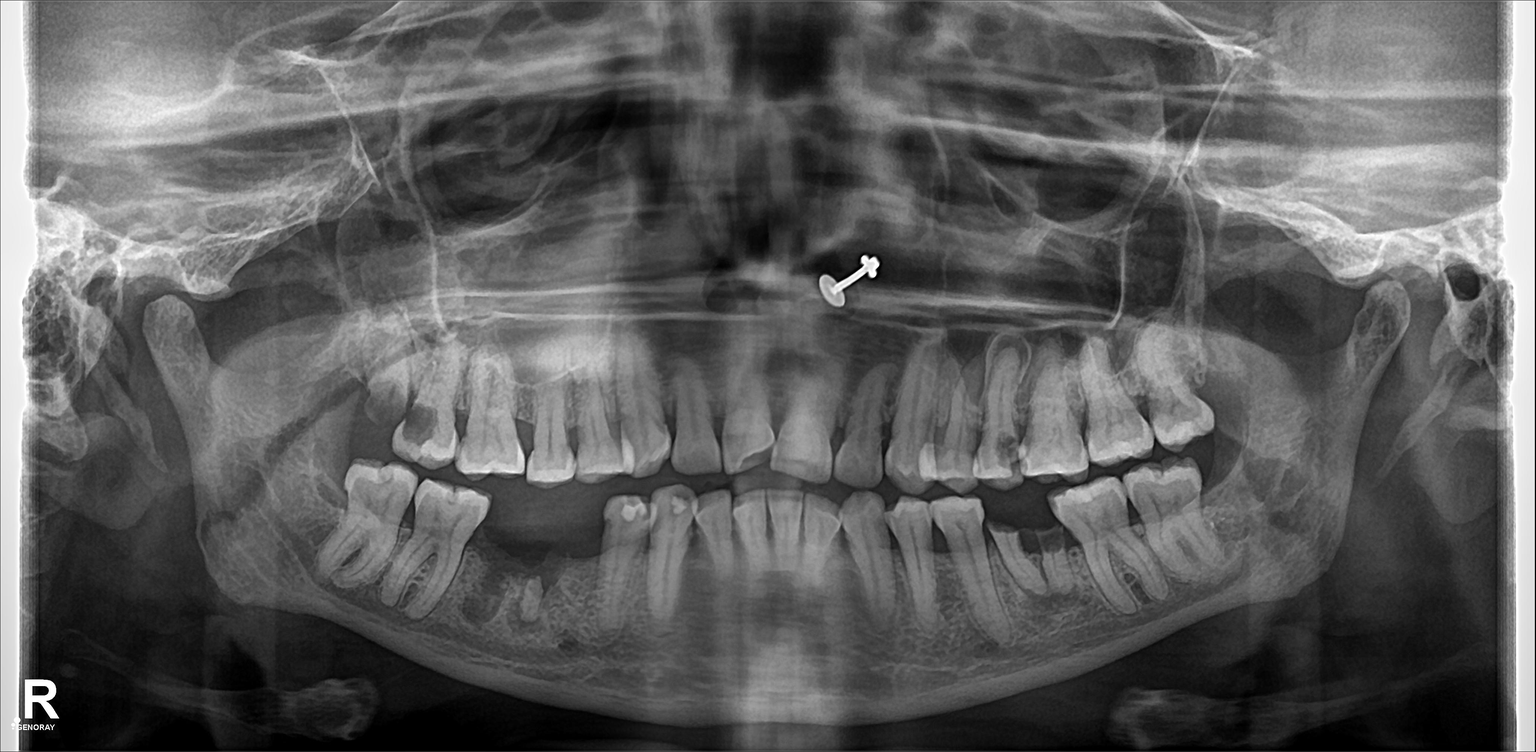Dental Caries: (397, 406, 445, 445), (361, 387, 399, 423), (998, 437, 1025, 468), (1039, 536, 1062, 557)
Missing Tooth: (479, 488, 517, 618), (562, 517, 599, 623)
Retained Root: (343, 339, 401, 441), (514, 508, 559, 636), (981, 506, 1028, 615), (1028, 499, 1076, 600)
